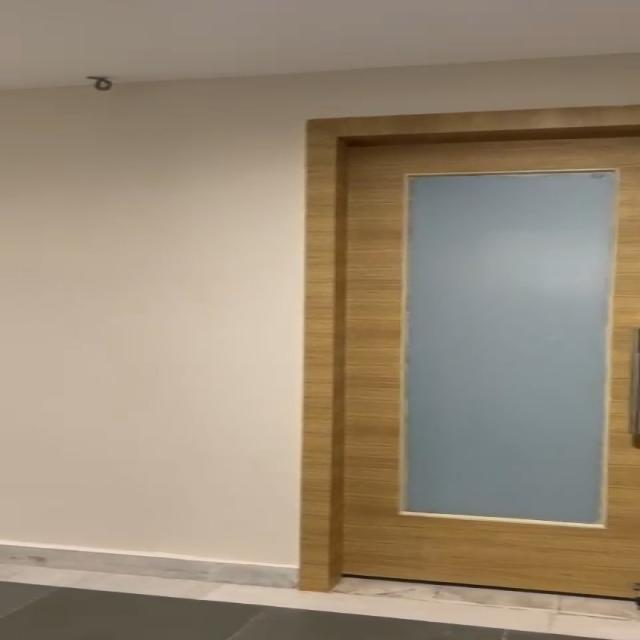door: (302, 116, 640, 594)
floor: (0, 586, 640, 640)
wall: (0, 89, 304, 564)
